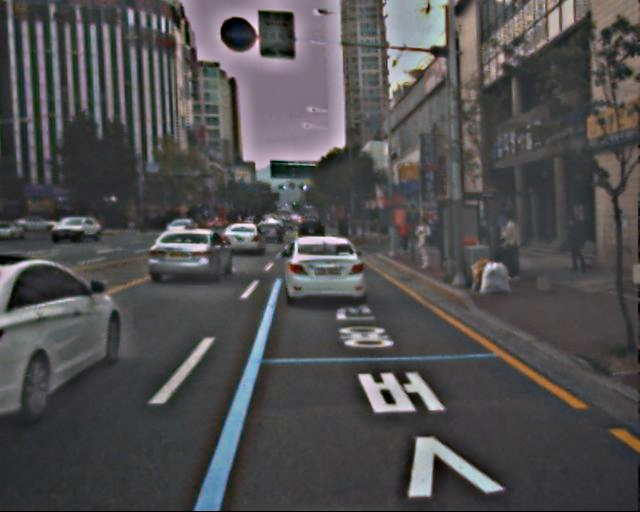person: (498, 214, 525, 281), (564, 214, 589, 274), (414, 218, 436, 271)
